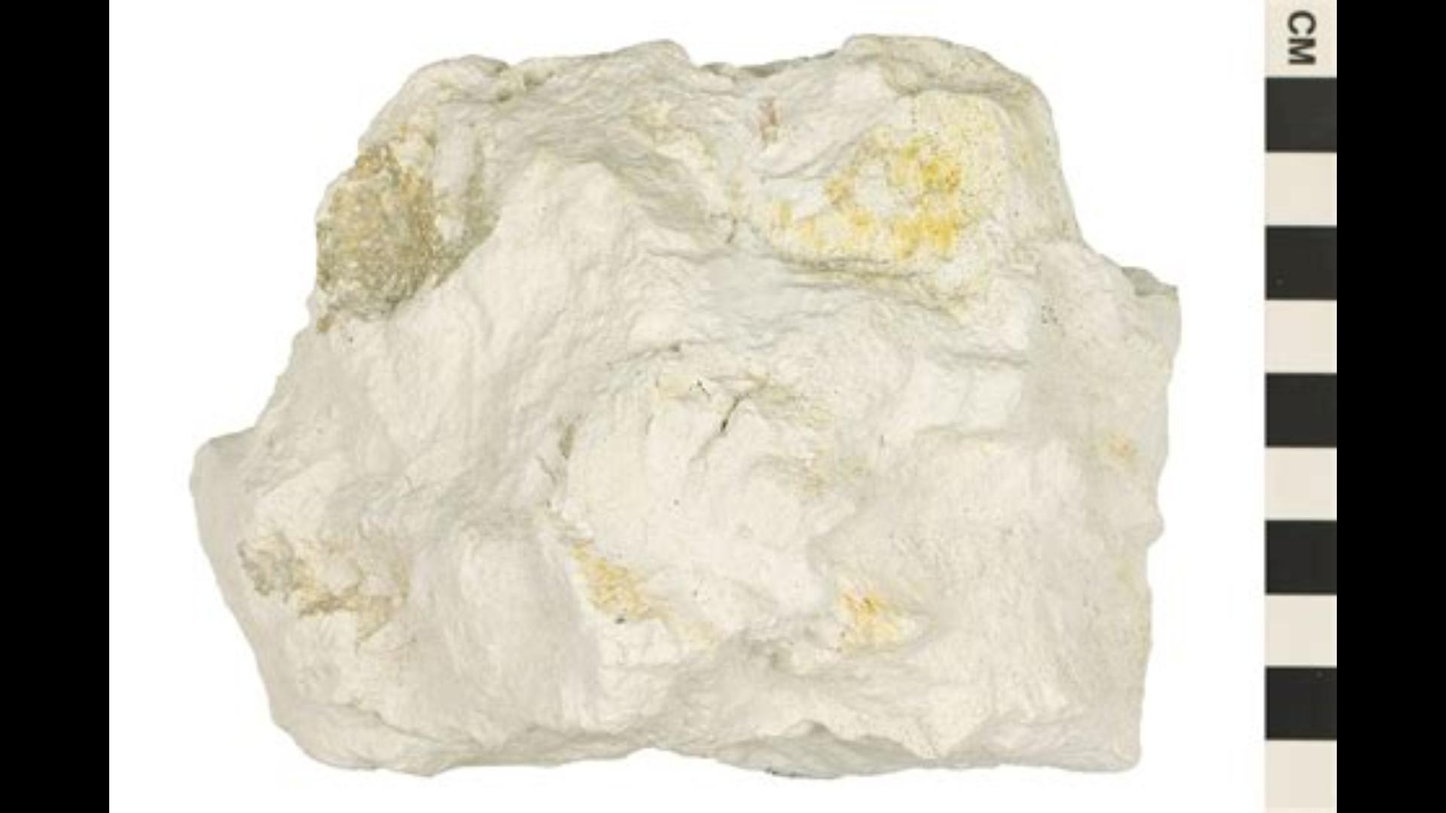rock: (197, 39, 1176, 774)
